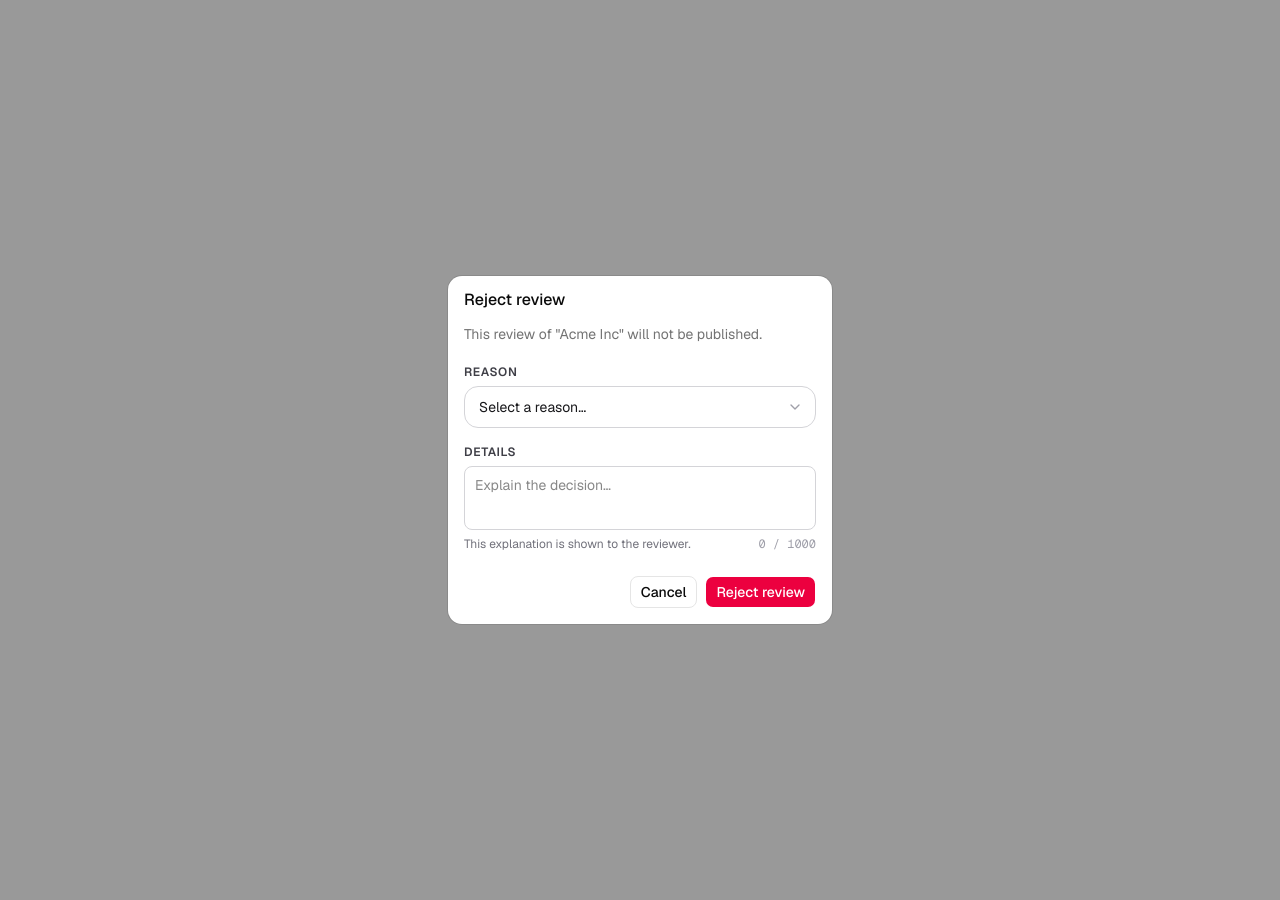
it: ModerationReasonDialog › refuses to submit without a reason
The image size is (1280, 900).
Type "Contains the employer's home address." into the text box labelled "Details".
click(640, 498); type("Contains the employer's home address.")  # box left=464, top=466, right=816, bottom=530
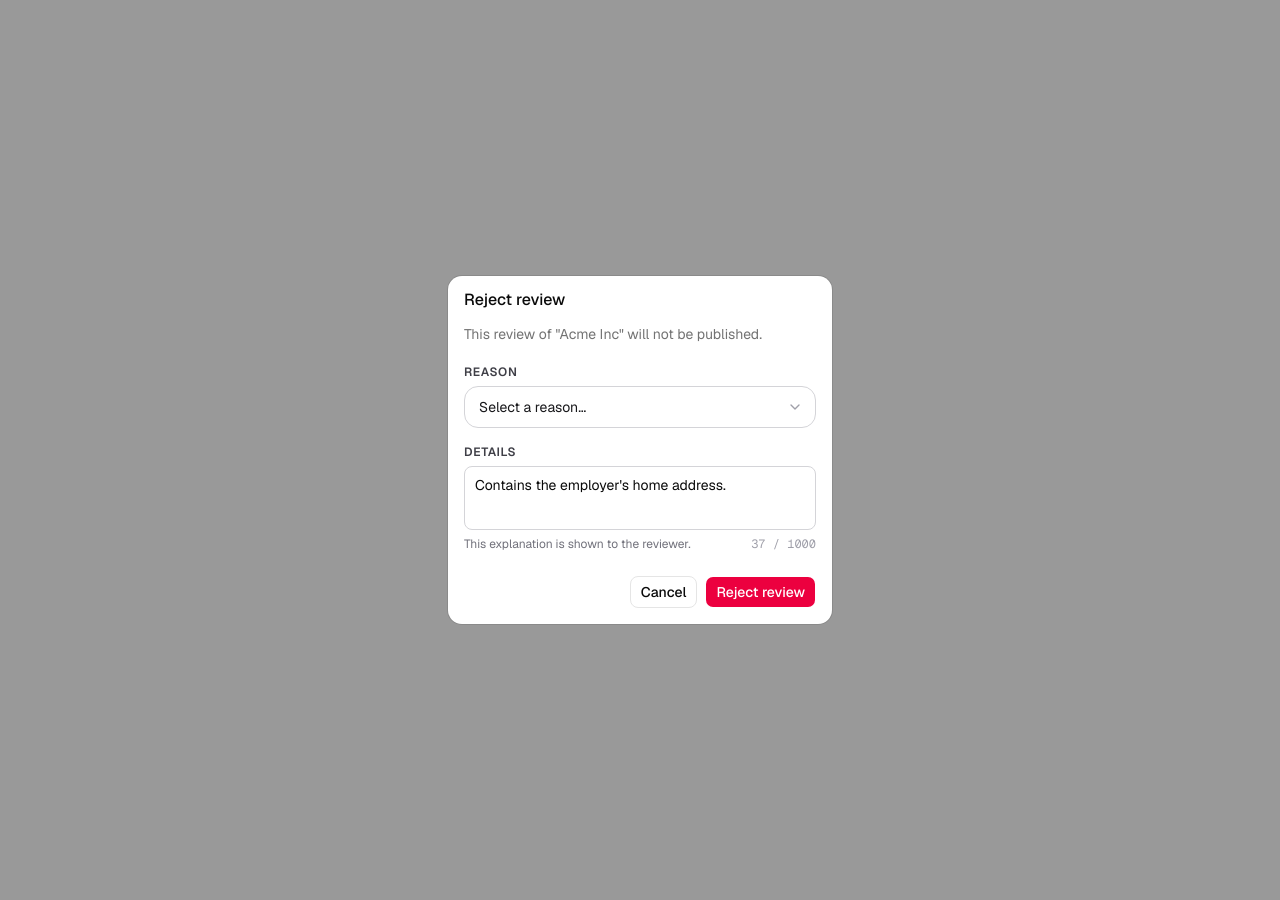
Click the button "Reject review".
click(761, 592)  # box left=705, top=576, right=816, bottom=608
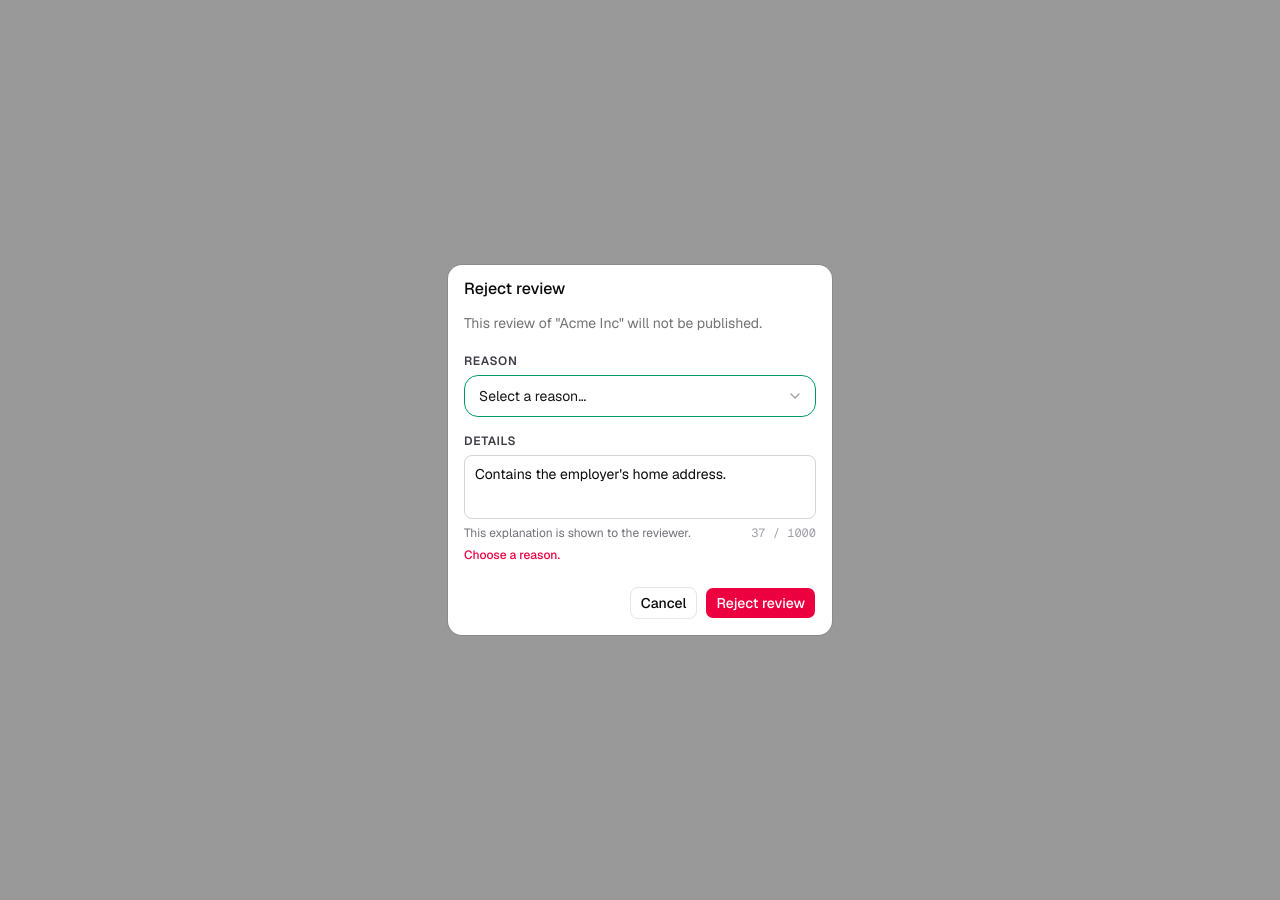
Expected: the message reads "Choose a reason.", left=464, top=547, right=560, bottom=563
